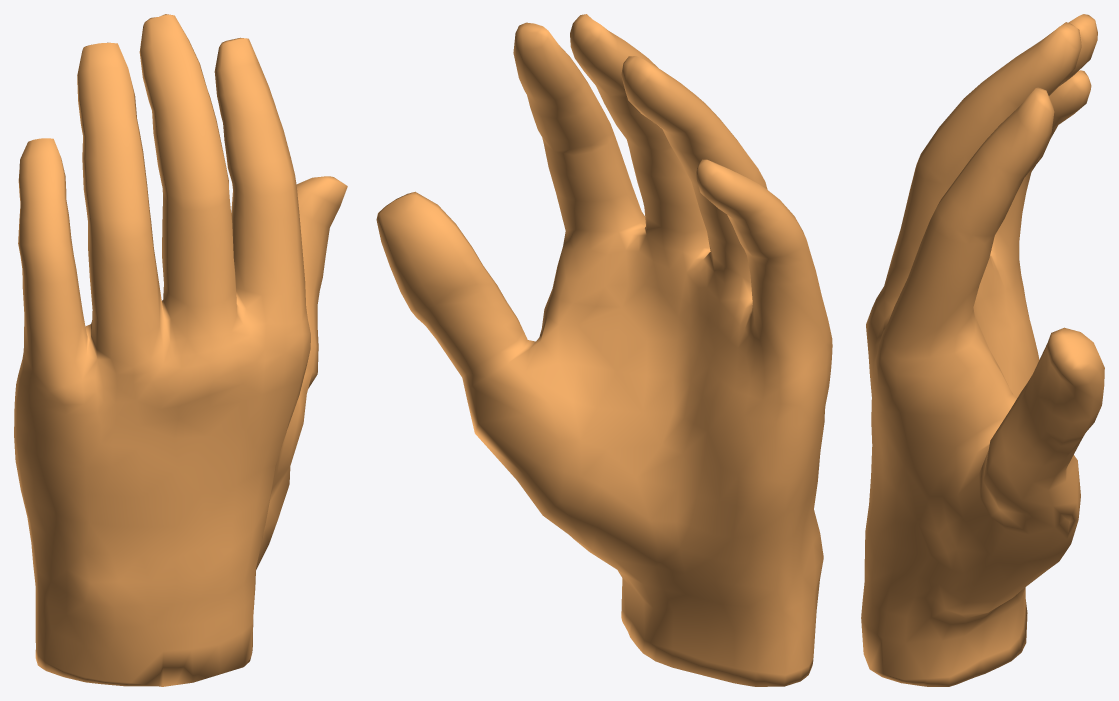
Rendered from linksOffen.obj.
The picture shows the model from 3 angles, left to right: view 1: azimuth 30°, elevation 25°; view 2: azimuth 150°, elevation 25°; view 3: azimuth 270°, elevation 25°; orthographic projection. The views are drawn at different scales.
Parts seen in each view (by area): view 1: linksOffen; view 2: linksOffen; view 3: linksOffen.
Part boxes in pixels (x1,y1,x2,y2): linksOffen: [14, 14, 347, 686]; linksOffen: [376, 14, 832, 686]; linksOffen: [861, 14, 1104, 686].
Size of the model in its own units: 0.2354 by 0.3656 by 0.1241.
